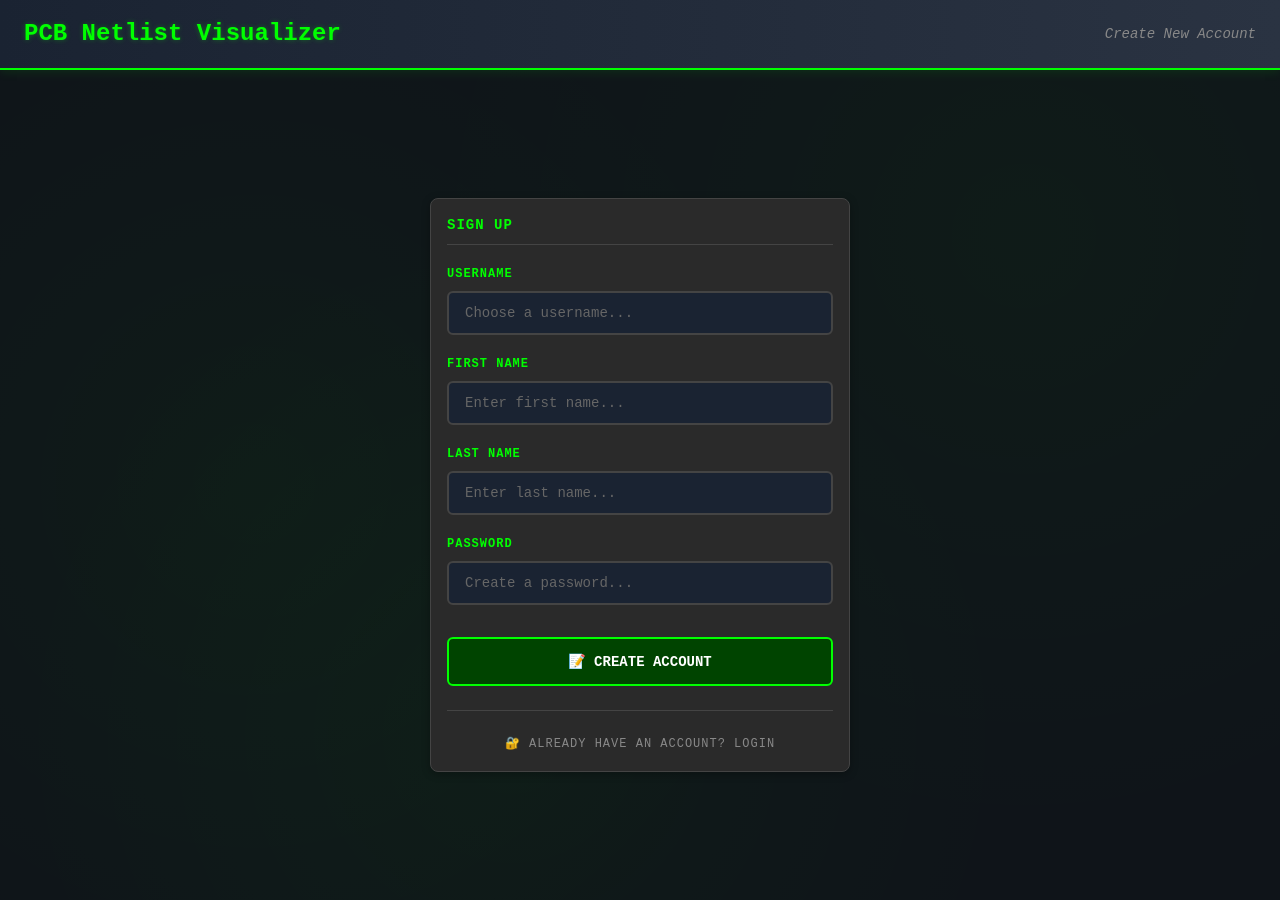
Scenario: SignUpPage › should display error message on registration failure
The width and height of the screenshot is (1280, 900).
In the field labelled "Username": (640, 313) [447, 291, 833, 335], type "existinguser"
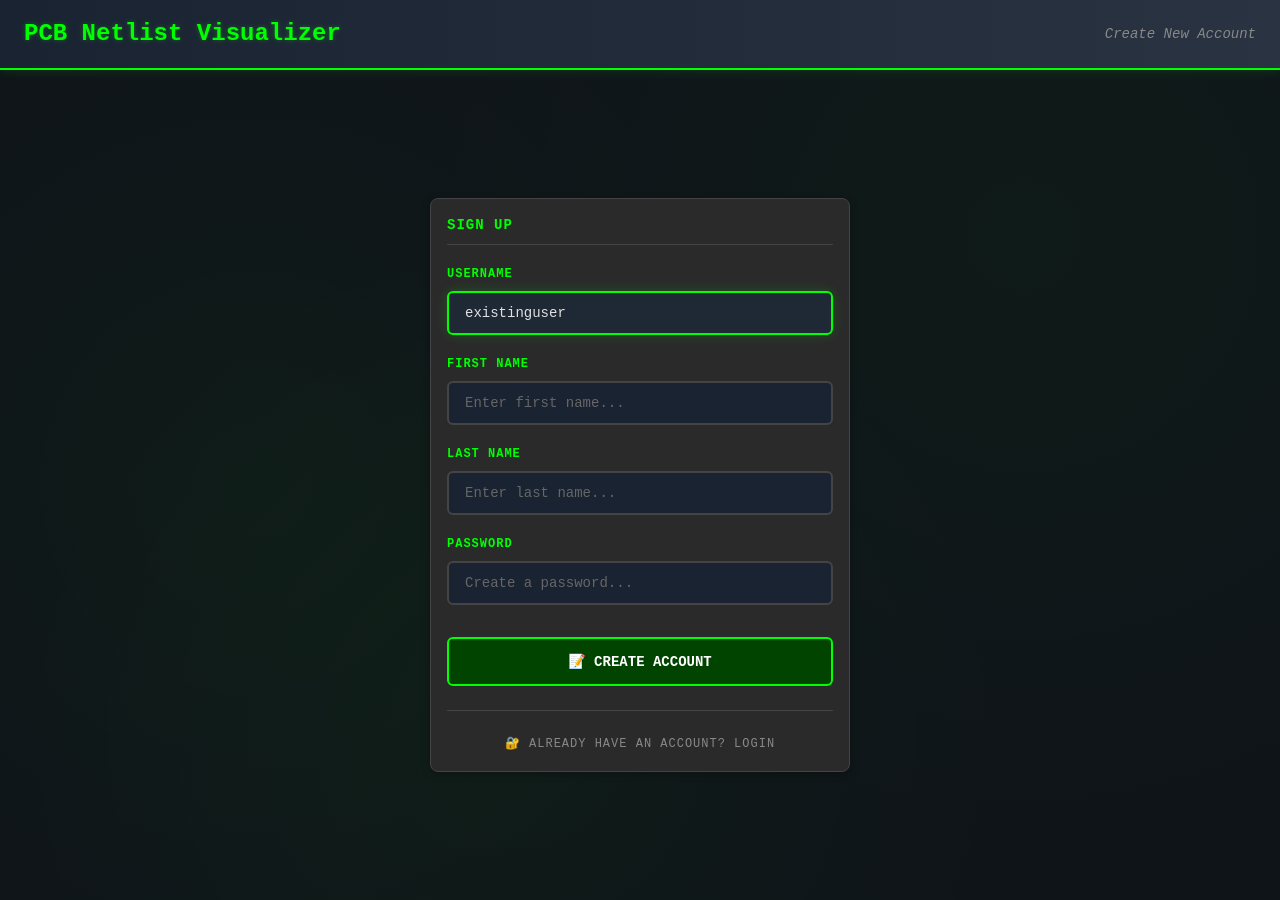
In the field labelled "First Name": (640, 403) [447, 381, 833, 425], type "John"
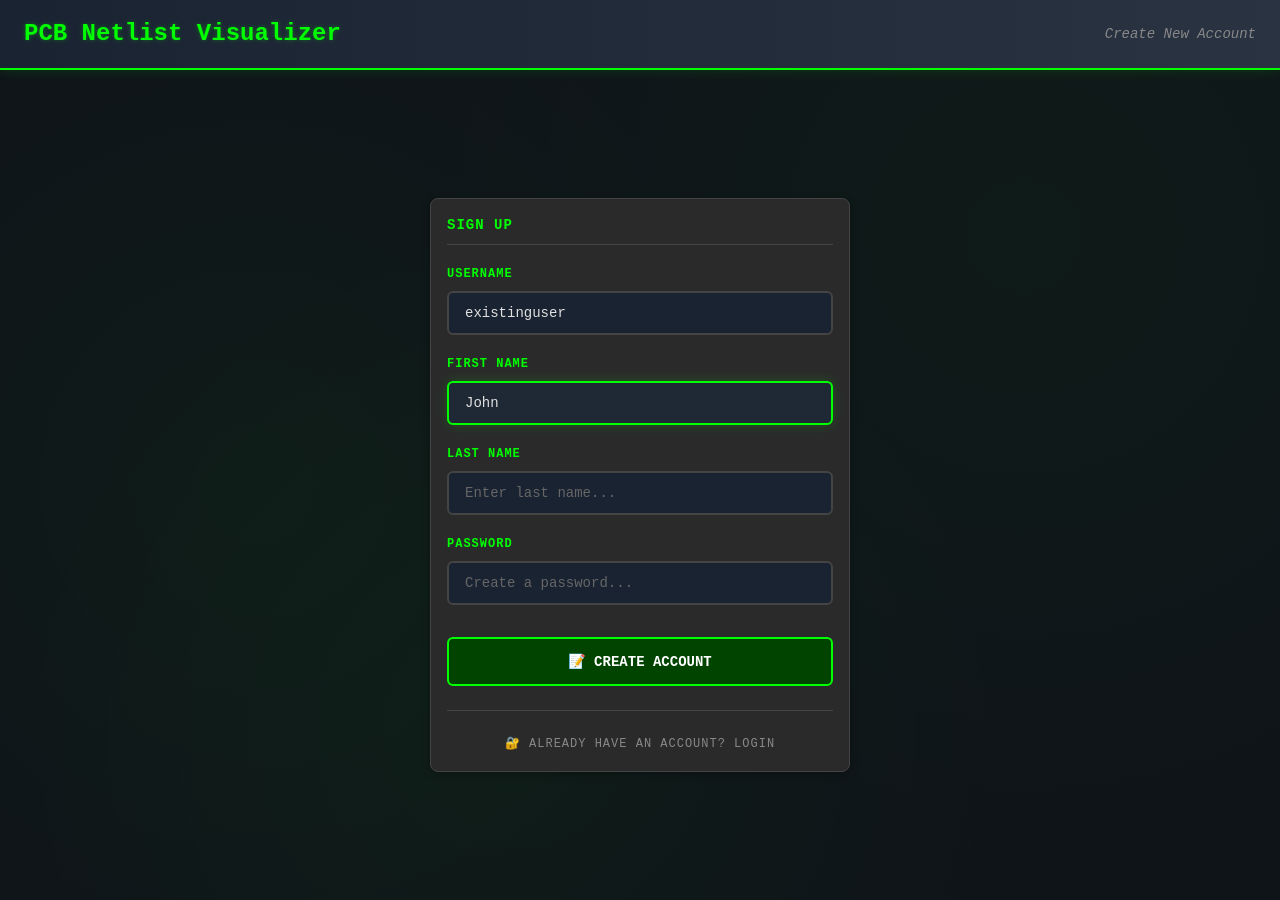
In the field labelled "Last Name": (640, 493) [447, 471, 833, 515], type "Doe"
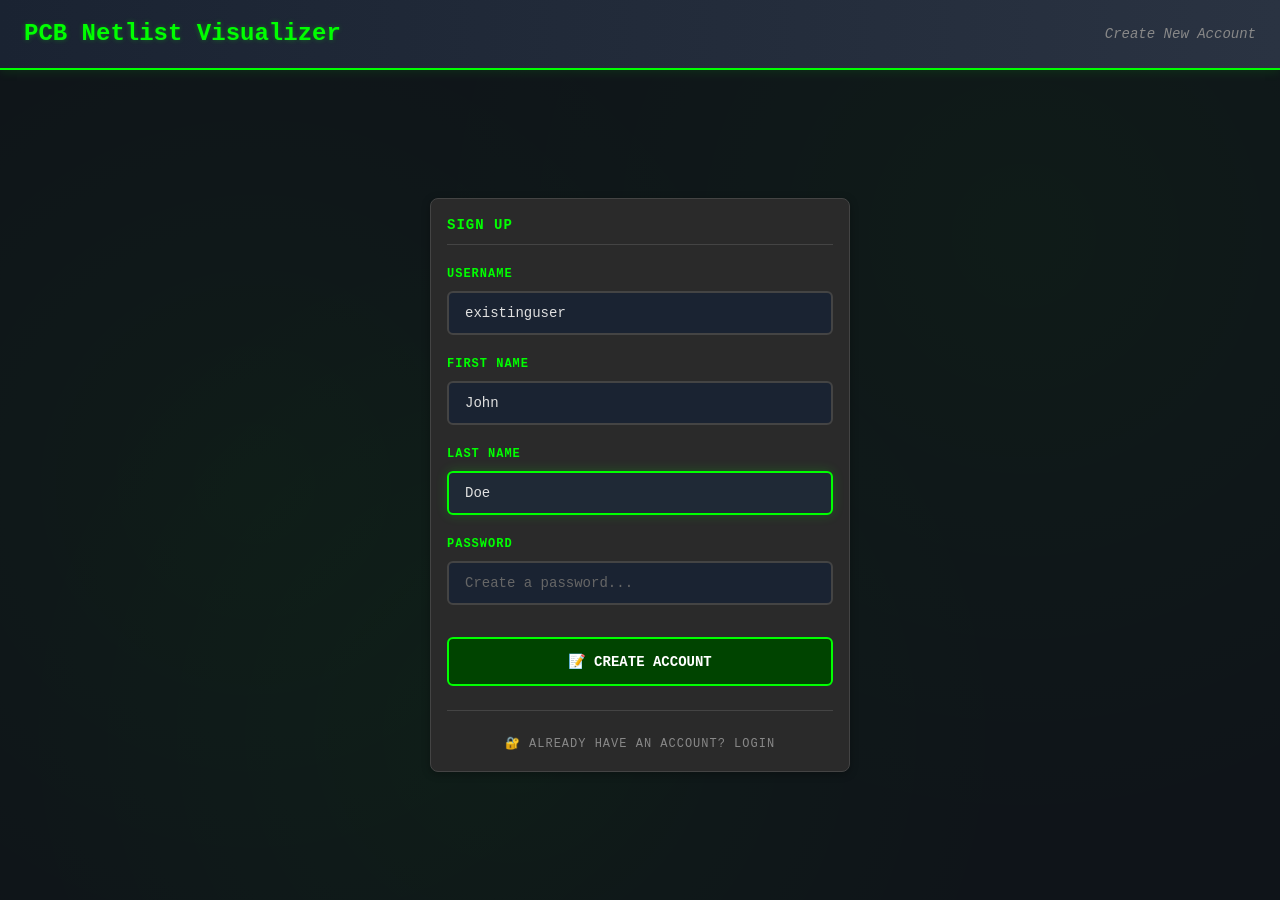
In the password field labelled "Password": (640, 583) [447, 561, 833, 605], type "testpass"
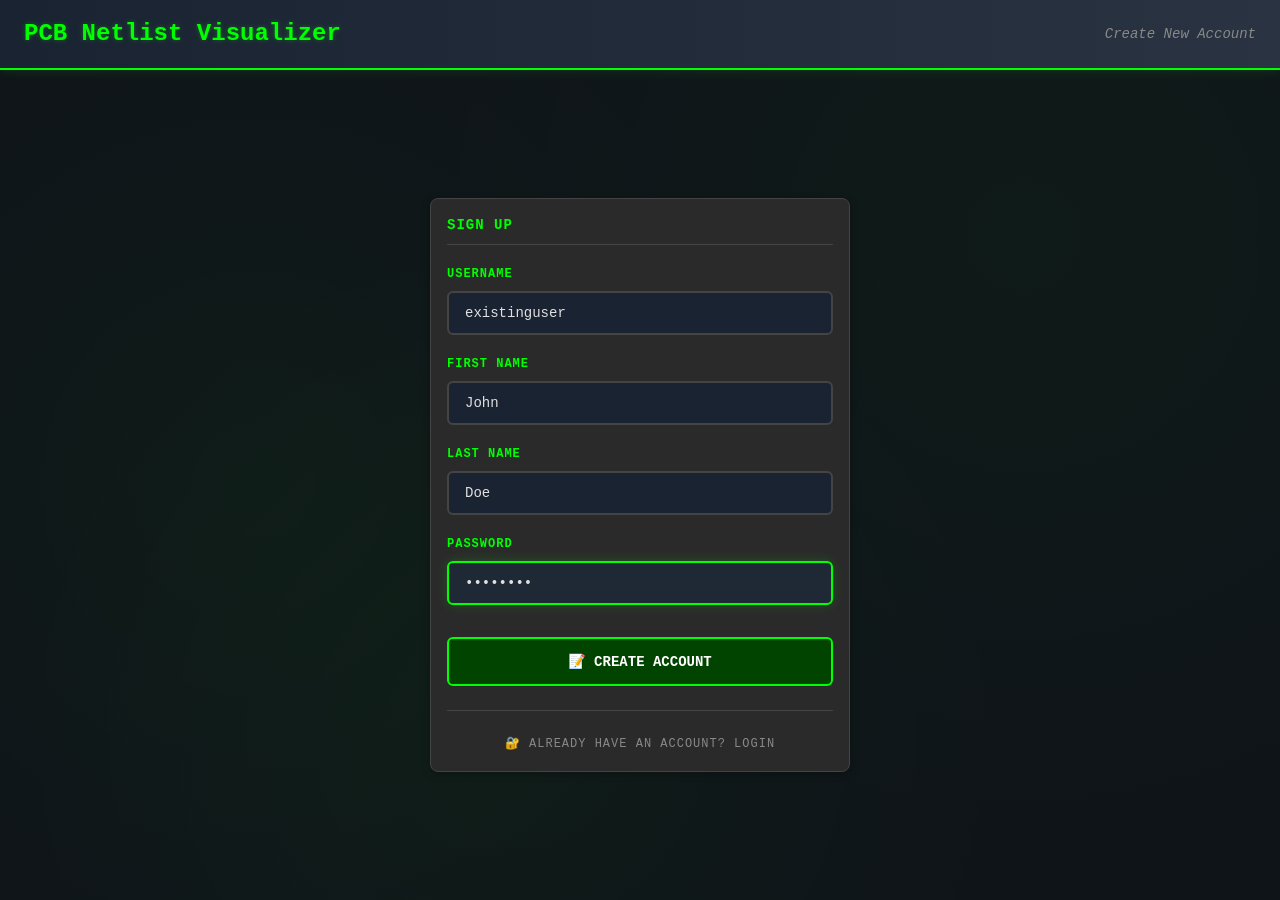
Click the button "📝 Create Account": (640, 662) [447, 637, 833, 686]
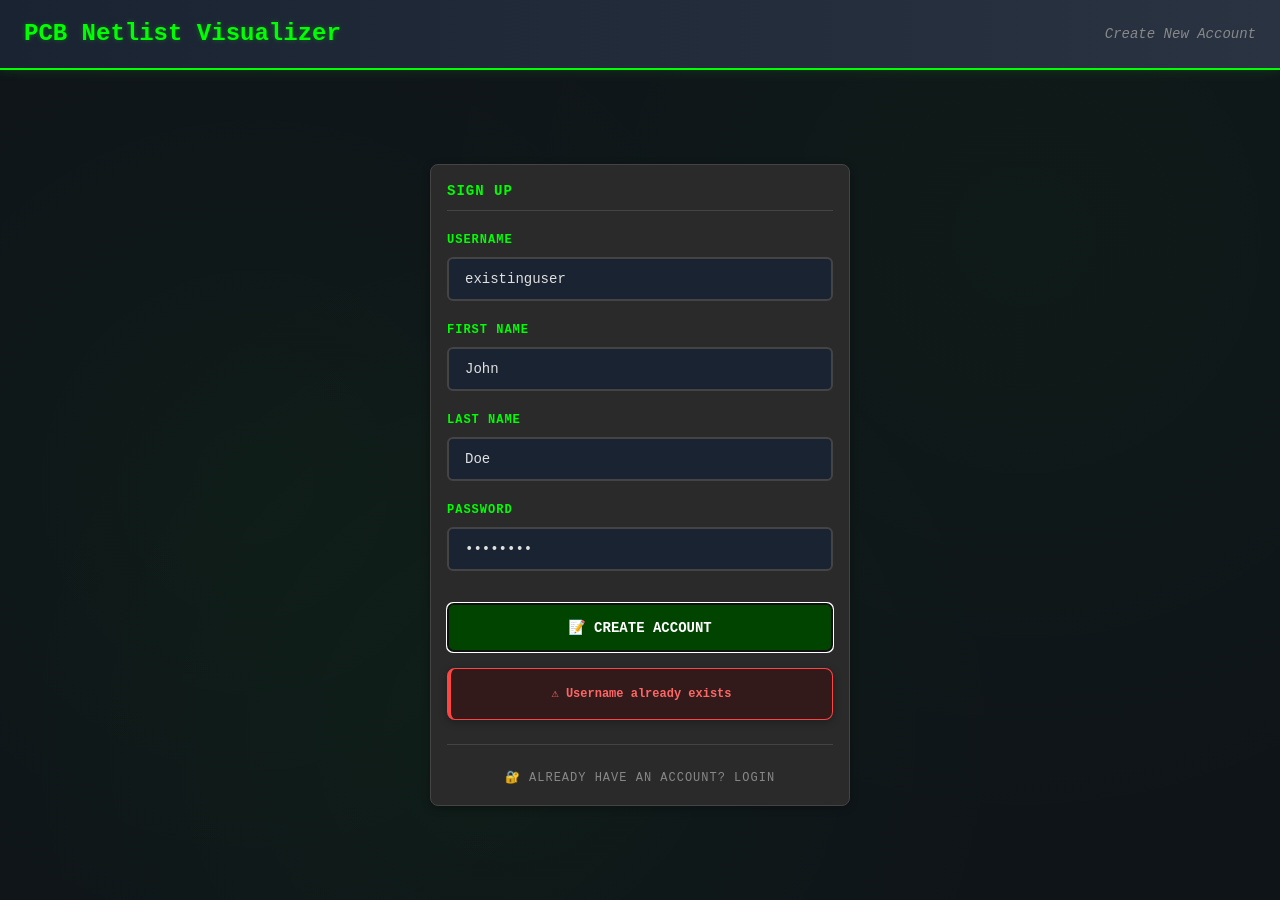
Result: the text "⚠ Username already exists" is shown at [552, 687, 732, 701]
